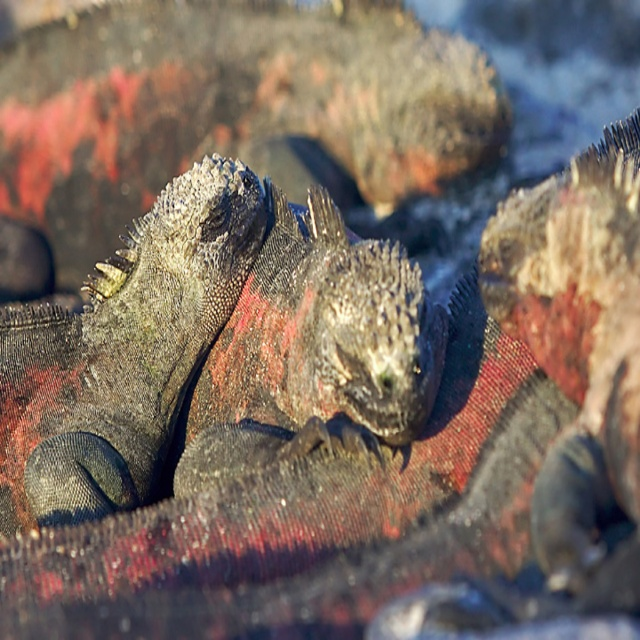Lizard: (0, 185, 438, 451), (0, 153, 266, 527), (0, 0, 487, 179), (480, 113, 639, 569)
